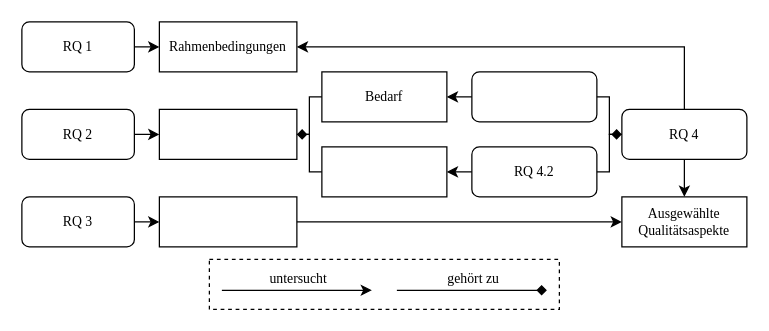
This 769x331 diagram has some shape labels left out. Here are the shapes that lost their labels. From the top down, the centre of each, then its label:
(x=534, y=96): RQ 4.1
(x=227, y=133): Eigenschaften
(x=384, y=171): Granularität
(x=227, y=221): Metriken
